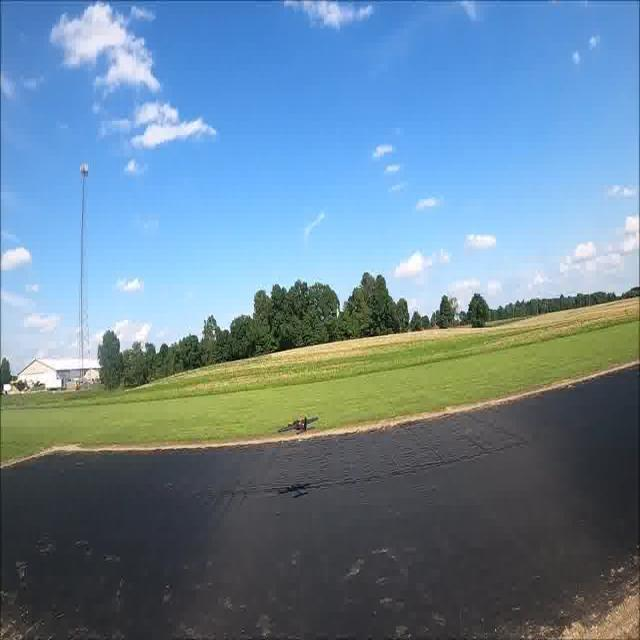iha: (273, 402, 321, 442)
